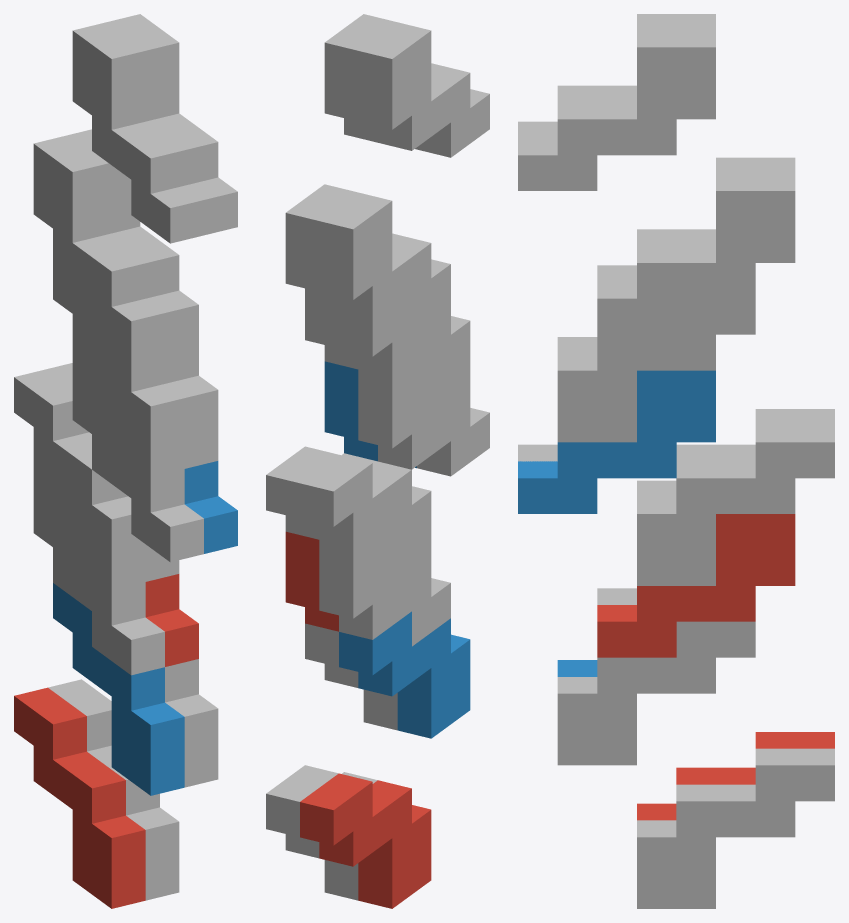
File: tiling.obj
3 renders of one model, left to right at view 1: azimuth 30°, elevation 25°; view 2: azimuth 150°, elevation 25°; view 3: azimuth 270°, elevation 25°, orthographic.
Parts seen in each view (by area): view 1: copy_2_domain_3, copy_2_domain_4, copy_1_domain_1, copy_1_domain_3, copy_1_domain_2, copy_1_domain_4, copy_2_domain_1, copy_2_domain_2, copy_2_domain_8, copy_2_domain_7, copy_1_domain_5, copy_1_domain_8 (+4 smaller); view 2: copy_1_domain_1, copy_2_domain_4, copy_2_domain_3, copy_1_domain_3, copy_2_domain_2, copy_1_domain_2, copy_2_domain_1, copy_1_domain_4, copy_1_domain_5, copy_2_domain_8, copy_2_domain_7, copy_1_domain_7 (+4 smaller); view 3: copy_1_domain_5, copy_2_domain_8, copy_2_domain_7, copy_1_domain_7, copy_1_domain_8, copy_1_domain_6, copy_2_domain_6, copy_2_domain_5, copy_1_domain_1, copy_1_domain_3, copy_2_domain_4, copy_2_domain_3 (+4 smaller).
Part boxes in pixels (left/top/right/bottom): copy_2_domain_3: left=33, top=135, right=164, bottom=356; copy_2_domain_4: left=72, top=22, right=203, bottom=243; copy_1_domain_1: left=14, top=687, right=145, bottom=908; copy_1_domain_3: left=14, top=369, right=145, bottom=589; copy_1_domain_2: left=53, top=583, right=184, bottom=795; copy_1_domain_4: left=53, top=264, right=184, bottom=476; copy_2_domain_1: left=33, top=462, right=164, bottom=675; copy_2_domain_2: left=72, top=349, right=203, bottom=562; copy_2_domain_8: left=106, top=14, right=237, bottom=235; copy_2_domain_7: left=68, top=129, right=198, bottom=348; copy_1_domain_5: left=48, top=679, right=179, bottom=900; copy_1_domain_8: left=165, top=340, right=218, bottom=468; copy_1_domain_1: left=300, top=773, right=431, bottom=908; copy_2_domain_4: left=358, top=22, right=489, bottom=157; copy_2_domain_3: left=319, top=192, right=450, bottom=327; copy_1_domain_3: left=300, top=454, right=431, bottom=589; copy_2_domain_2: left=358, top=349, right=489, bottom=476; copy_1_domain_2: left=339, top=611, right=470, bottom=738; copy_2_domain_1: left=319, top=520, right=450, bottom=646; copy_1_domain_4: left=339, top=293, right=470, bottom=419; copy_1_domain_5: left=266, top=765, right=377, bottom=900; copy_2_domain_8: left=324, top=14, right=436, bottom=149; copy_2_domain_7: left=285, top=184, right=396, bottom=312; copy_1_domain_7: left=266, top=446, right=377, bottom=539; copy_1_domain_5: left=637, top=748, right=834, bottom=908; copy_2_domain_8: left=518, top=30, right=715, bottom=190; copy_2_domain_7: left=597, top=174, right=795, bottom=334; copy_1_domain_7: left=637, top=425, right=834, bottom=585; copy_1_domain_8: left=557, top=298, right=755, bottom=442; copy_1_domain_6: left=557, top=621, right=755, bottom=765; copy_2_domain_6: left=518, top=370, right=715, bottom=513; copy_2_domain_5: left=597, top=514, right=795, bottom=657; copy_1_domain_1: left=637, top=732, right=834, bottom=820; copy_1_domain_3: left=637, top=409, right=834, bottom=497; copy_2_domain_4: left=518, top=14, right=715, bottom=138; copy_2_domain_3: left=597, top=157, right=795, bottom=281.
Bounding box in the file's own units: 2 × 24 × 8.
